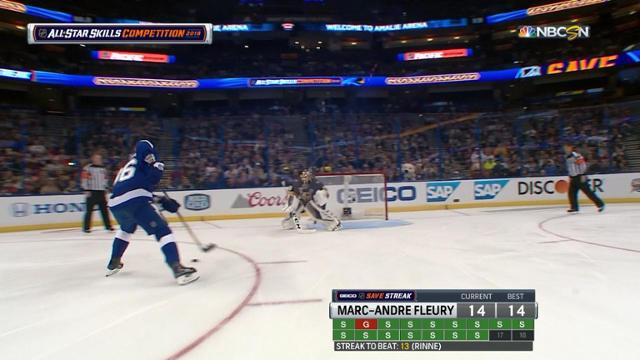geico: (334, 182, 421, 209)
